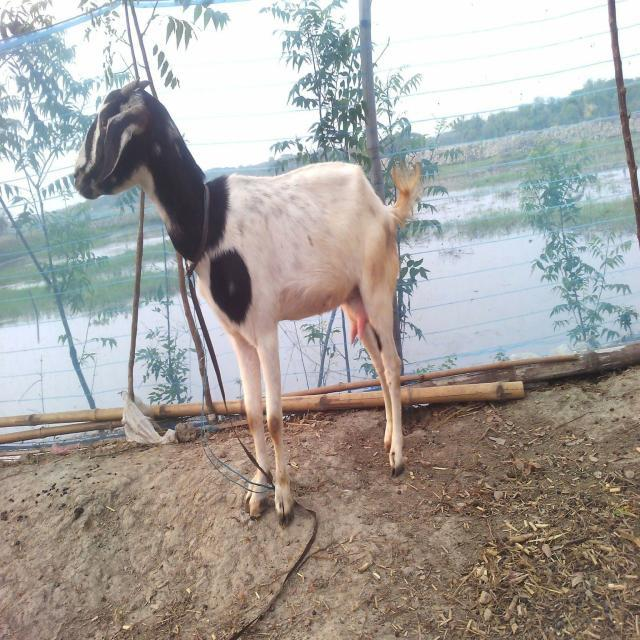Goat: (73, 77, 424, 528)
